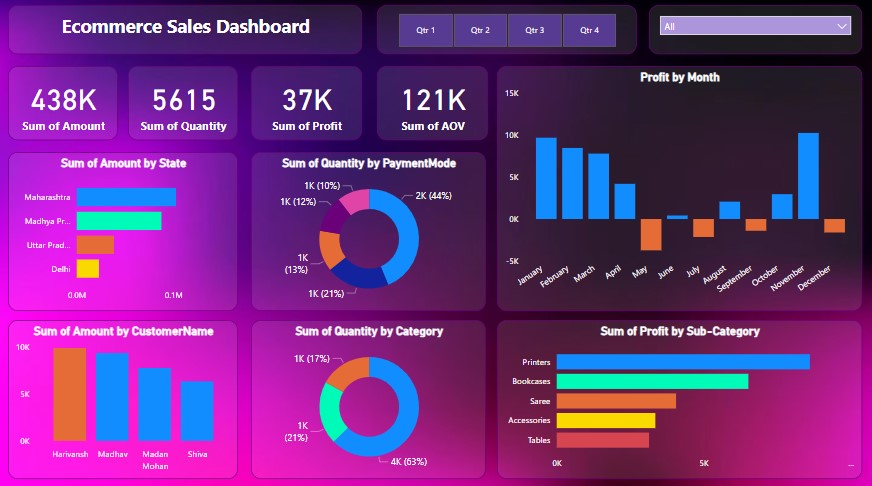

The page's visual inventory and layout, read from the dashboard file:
{"tool":"powerbi","page":{"name":"Page 1","canvas":[1280,720],"ordinal":0},"visuals":[{"type":"textbox","box":[24.5,15.8,509.8,70.6],"z":0},{"type":"columnChart","title":"Profit by Month","fields":{"Y":["Details.Profit"],"Category":["Orders.Order Date.Variation.Date Hierarchy.Month"]},"box":[728.6,103.7,525.6,352.8],"z":1000},{"type":"barChart","fields":{"Category":["Details.Sub-Category"],"Y":["Details.Profit"]},"box":[728.6,469.4,525.6,229],"z":2000},{"type":"donutChart","fields":{"Category":["Details.Category"],"Y":["Details.Quantity"]},"box":[374.4,469.4,338.4,229],"z":3000},{"type":"donutChart","fields":{"Y":["Details.Quantity"],"Category":["Details.PaymentMode"]},"box":[374.4,227.5,338.4,229],"z":4000},{"type":"card","fields":{"Values":["Details.Amount"]},"box":[24.5,103.7,158.4,106.6],"z":5000},{"type":"card","fields":{"Values":["Details.Quantity"]},"box":[197.3,103.7,158.4,106.6],"z":6000},{"type":"card","fields":{"Values":["Details.Profit"]},"box":[374.4,103.7,159.8,106.6],"z":7000},{"type":"card","fields":{"Values":["Details.AOV"]},"box":[555.8,103.7,159.8,106.6],"z":8000},{"type":"barChart","fields":{"Category":["Orders.State"],"Y":["Details.Amount"]},"box":[24.5,227.5,331.2,229],"z":9000},{"type":"columnChart","fields":{"Category":["Orders.CustomerName"],"Y":["Details.Amount"]},"box":[24.5,469.4,331.2,229],"z":10000},{"type":"slicer","fields":{"Values":["Orders.Order Date.Variation.Date Hierarchy.Quarter"]},"box":[555.8,15.8,374.4,70.6],"z":11000},{"type":"slicer","fields":{"Values":["Orders.State"]},"box":[947.5,15.8,306.7,70.6],"z":12000}]}

Visuals, with their boxes in screenshot pixels (x1, y1, x2, y2), scaled from the page's 1280x720 canvas onto the 872x486 screenshot:
textbox: <region>17, 11, 364, 58</region>
"Profit by Month" columnChart: <region>496, 70, 854, 308</region>
barChart - Details.Sub-Category x Details.Profit: <region>496, 317, 854, 471</region>
donutChart - Details.Category x Details.Quantity: <region>255, 317, 486, 471</region>
donutChart - Details.Quantity x Details.PaymentMode: <region>255, 154, 486, 308</region>
card - Details.Amount: <region>17, 70, 125, 142</region>
card - Details.Quantity: <region>134, 70, 242, 142</region>
card - Details.Profit: <region>255, 70, 364, 142</region>
card - Details.AOV: <region>379, 70, 488, 142</region>
barChart - Orders.State x Details.Amount: <region>17, 154, 242, 308</region>
columnChart - Orders.CustomerName x Details.Amount: <region>17, 317, 242, 471</region>
slicer - Orders.Order Date.Variation.Date Hierarchy.Quarter: <region>379, 11, 634, 58</region>
slicer - Orders.State: <region>645, 11, 854, 58</region>
